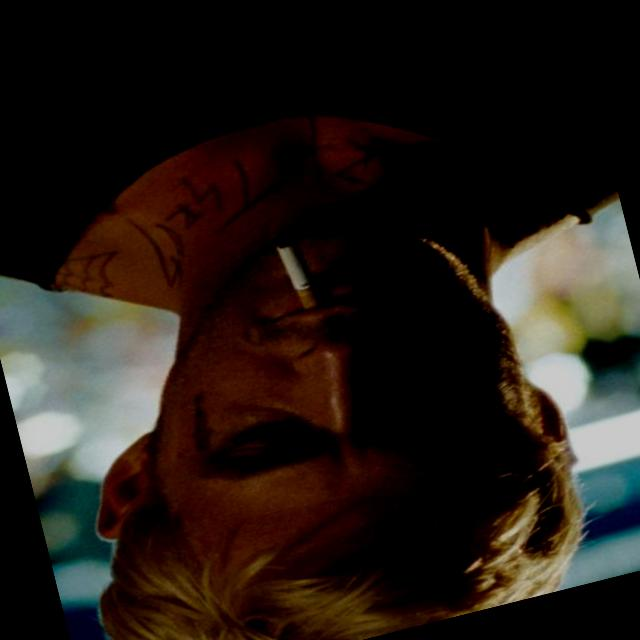smoke: (243, 215, 367, 339)
